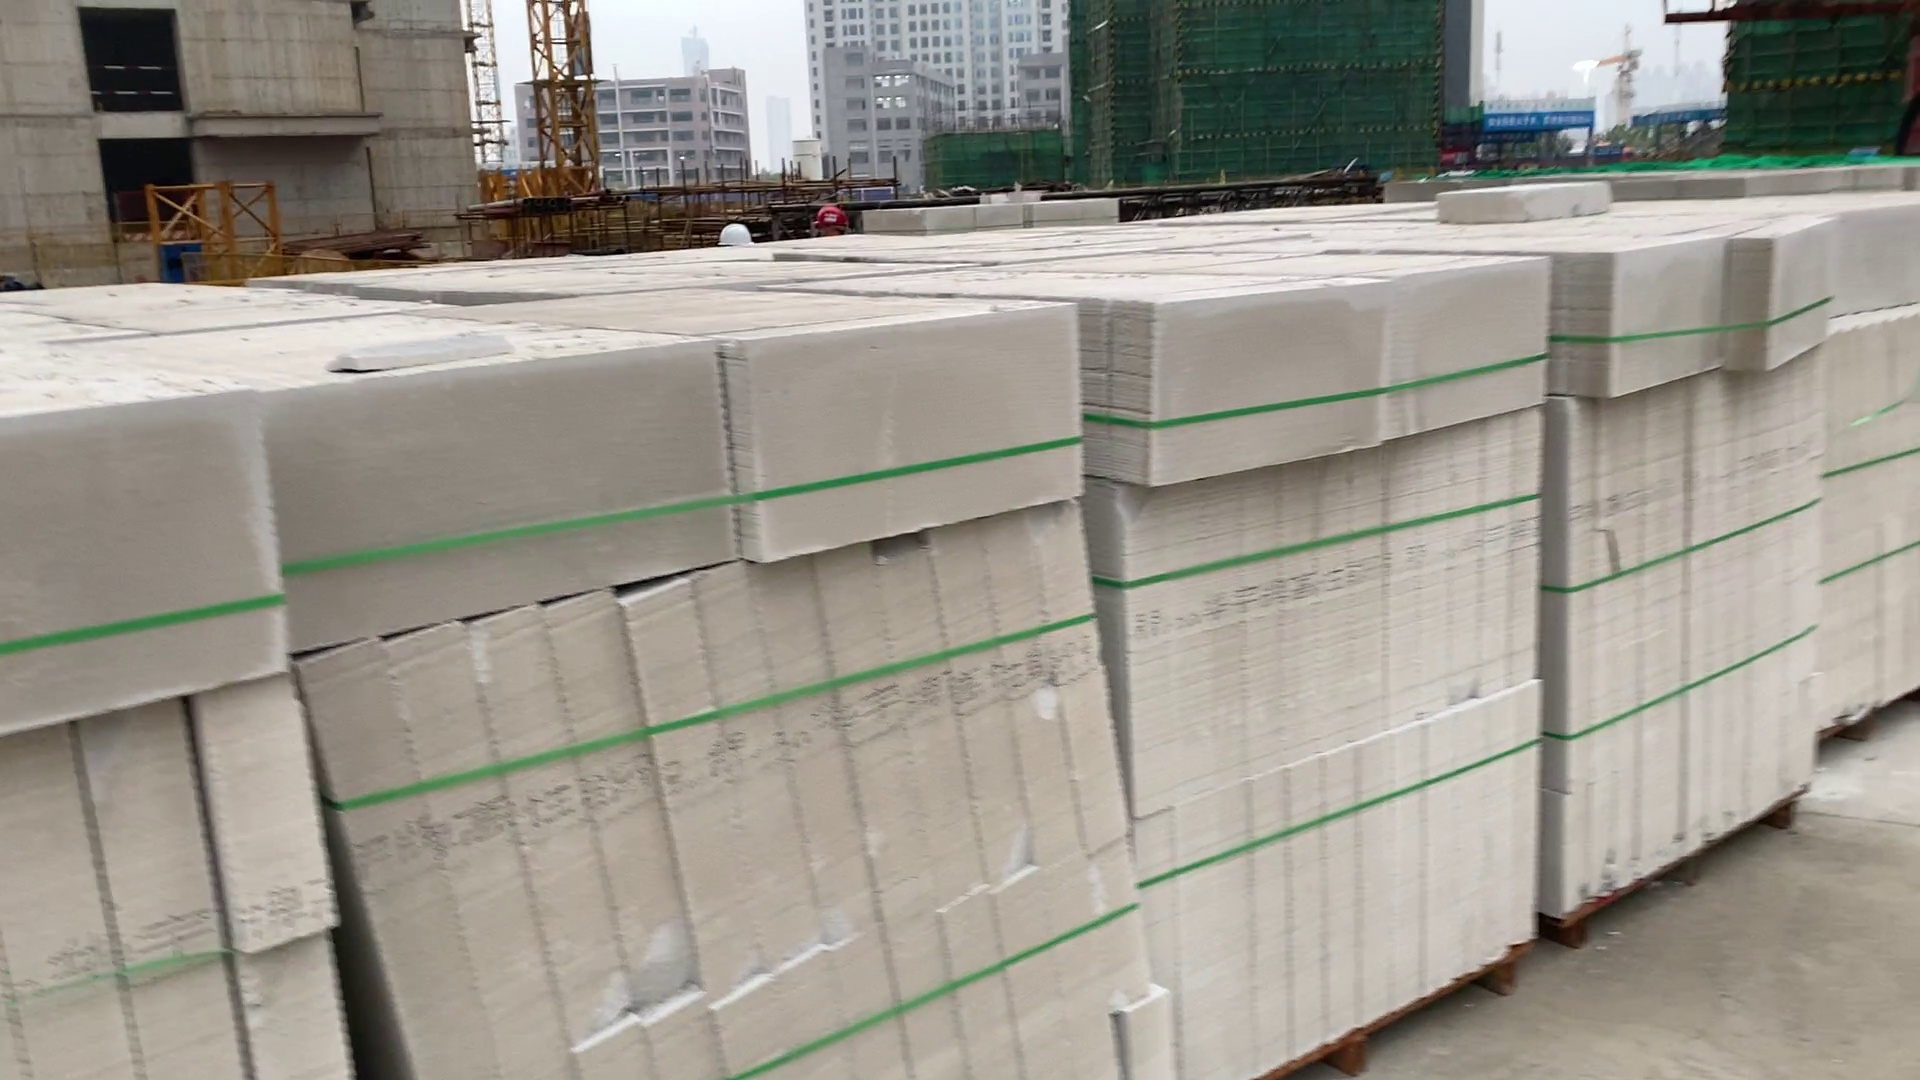brickwork: (289, 284, 1149, 1080), (1097, 260, 1542, 1080), (7, 320, 349, 1080), (1538, 225, 1807, 931), (1808, 206, 1920, 773)
